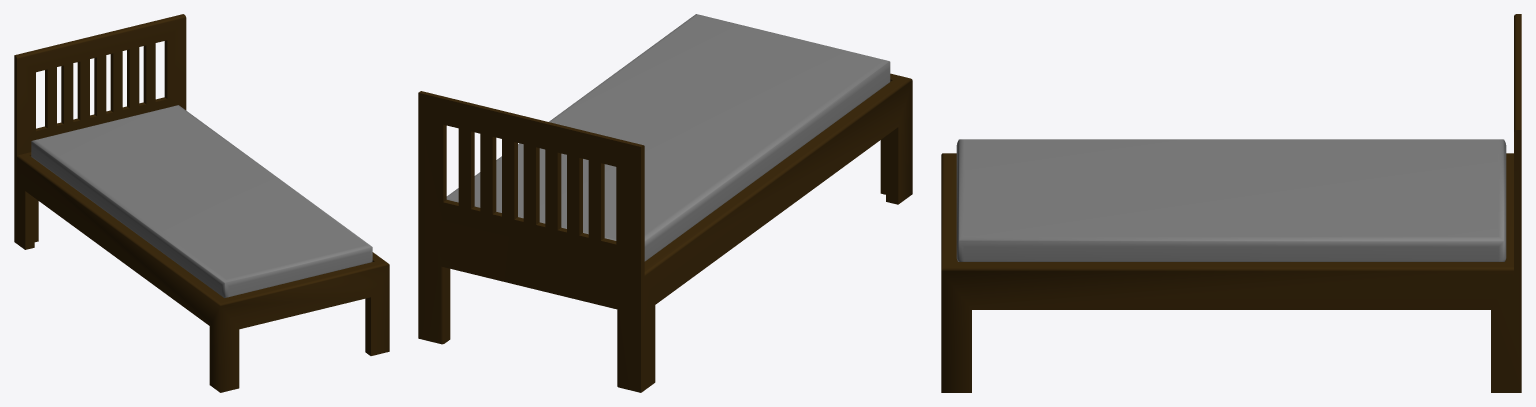
Rendered from Bed_3_FBX.FBX.
3 renders of one model, left to right at view 1: azimuth 30°, elevation 25°; view 2: azimuth 150°, elevation 25°; view 3: azimuth 270°, elevation 25°, orthographic. The views are drawn at different scales.
Parts seen in each view (by area): view 1: Fabric, Wood; view 2: Wood, Fabric; view 3: Fabric, Wood.
Boxes of the visible parts, x1,y1,x2,y2 form: Fabric: (31, 105, 372, 297); Wood: (14, 14, 389, 392); Wood: (418, 73, 912, 392); Fabric: (446, 14, 890, 261); Fabric: (956, 139, 1506, 261); Wood: (941, 14, 1521, 392).
Bounding box in the file's own units: 35.43 × 37.4 × 74.8.
